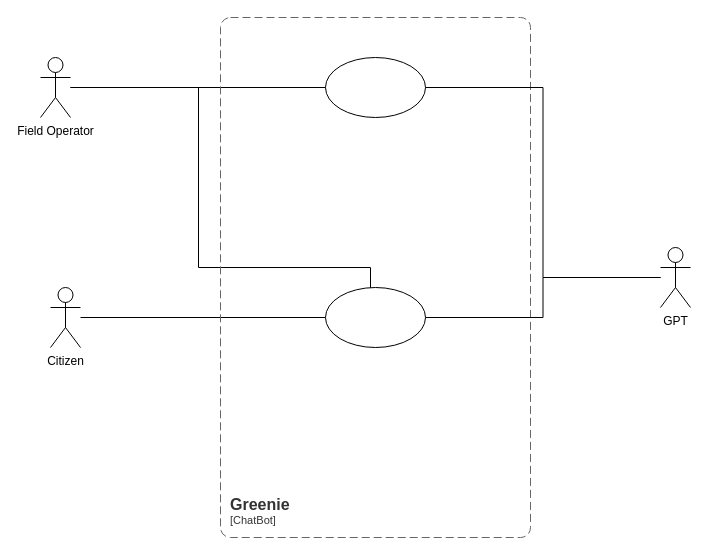
Image size: 708x555. Some labels were removed from this diagram. The box of each missing label's shape, as (x1, y1, x2, y2) in pixels:
Platform Questions: (324, 286, 426, 348)
Technical Questions: (324, 56, 426, 118)
